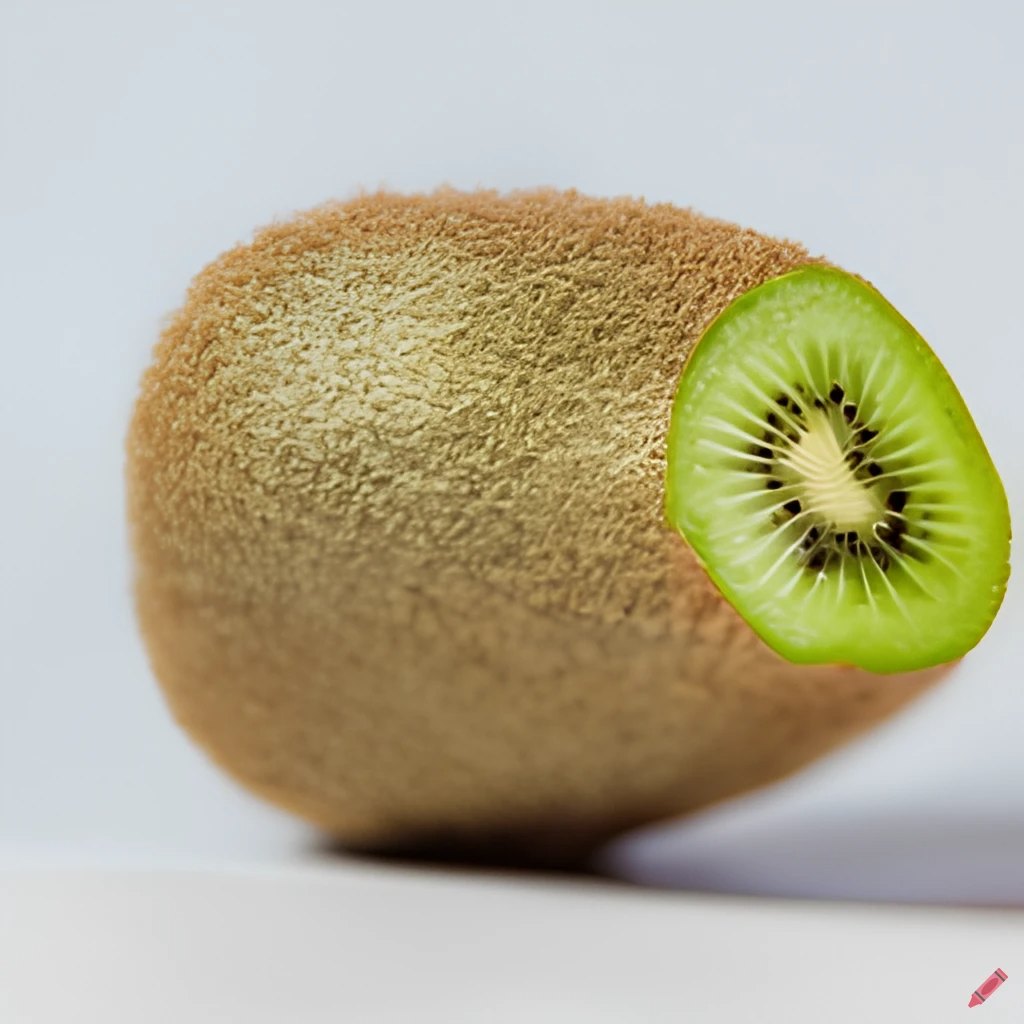Kiwi: (70, 170, 1024, 862)
